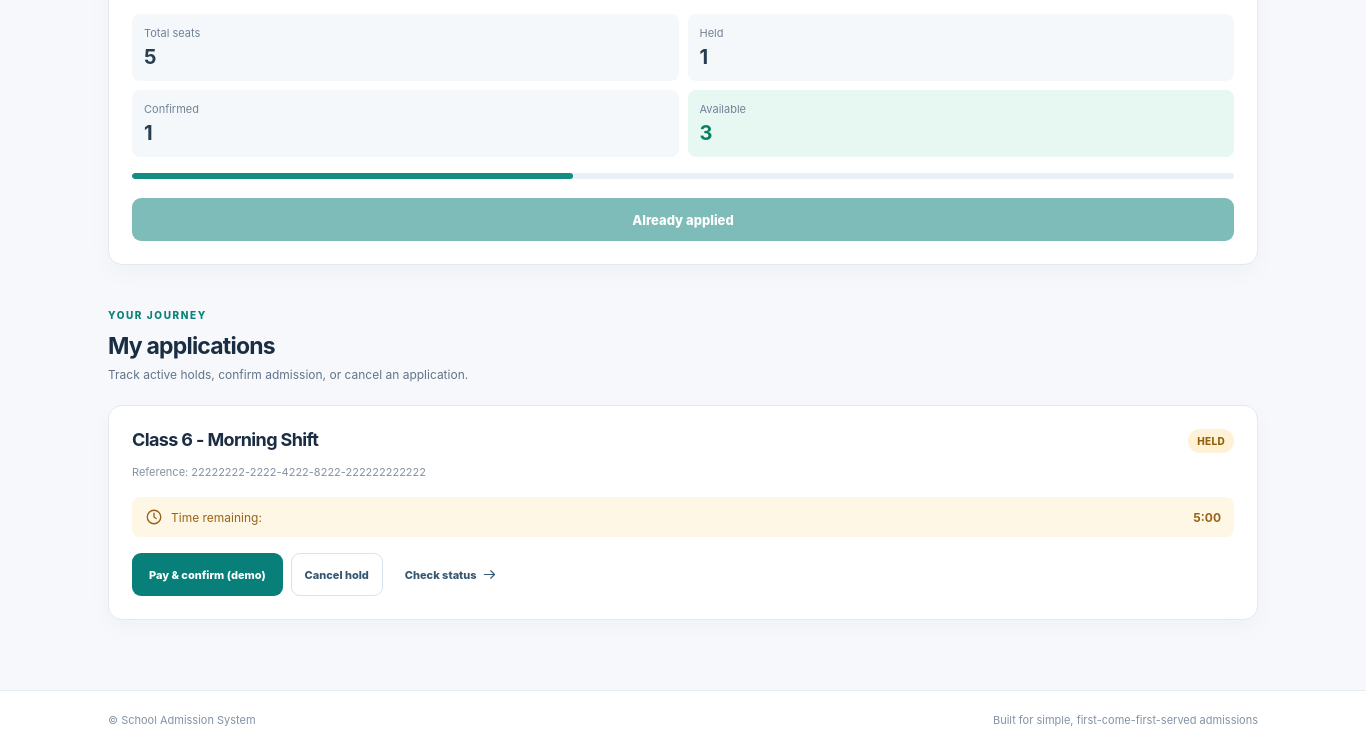
School Admission frontend › allows cancellation and removes reservation actions once cancelled
(page scrolled)
Click the button "Cancel hold" at (337,574), box [291,553,383,596]
(page scrolled)
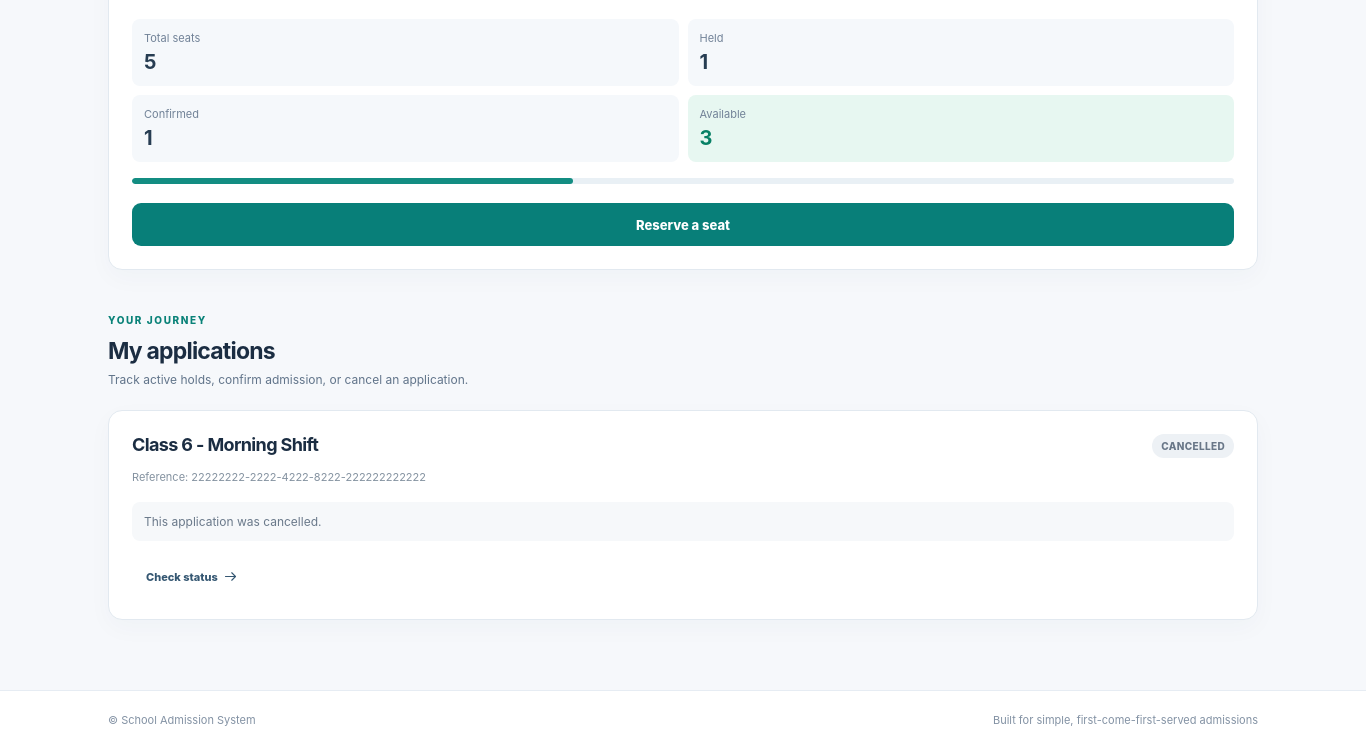
Now the text "This application was cancelled." is shown, box [132,502,1234,541]
Now the button "Cancel hold" is gone
